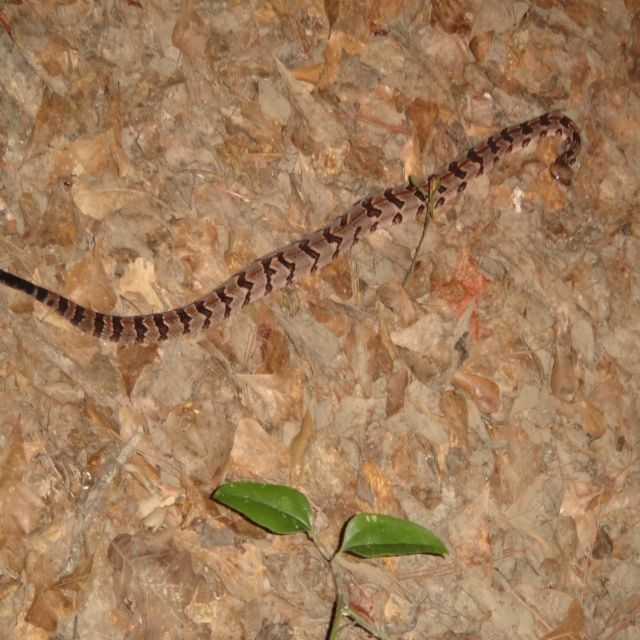Snake: (0, 111, 583, 348)
